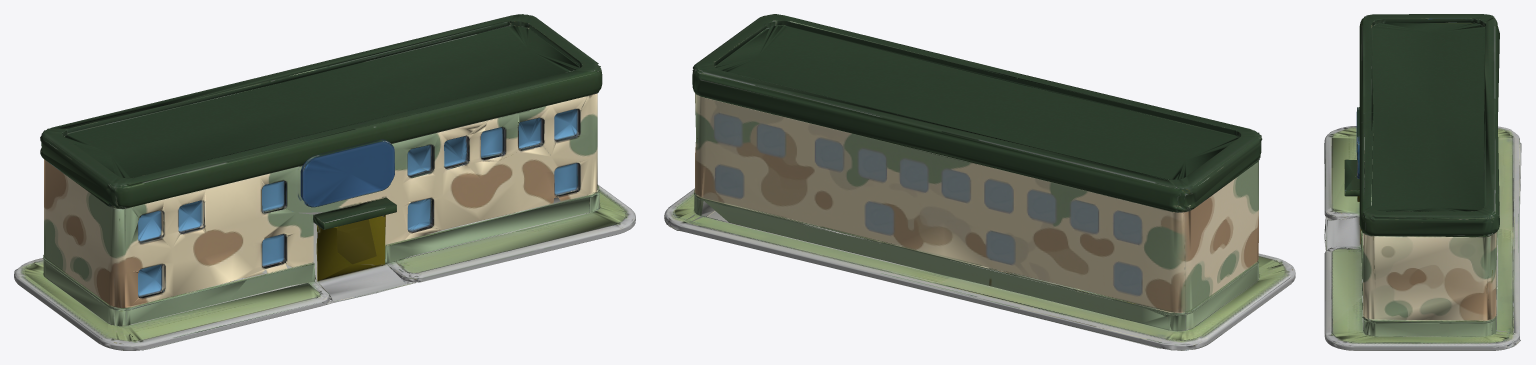
File: barracks-fractured.glb
3 renders of one model, left to right at view 1: azimuth 30°, elevation 25°; view 2: azimuth 150°, elevation 25°; view 3: azimuth 270°, elevation 25°, orthographic. The views are drawn at different scales.
Visible parts, largest first — view 1: chunk_023, chunk_011, chunk_002, chunk_020, chunk_008, chunk_014, chunk_026, chunk_017, chunk_001, chunk_021, chunk_009, chunk_004 (+7 smaller); view 2: chunk_021, chunk_018, chunk_009, chunk_023, chunk_011, chunk_012, chunk_006, chunk_000, chunk_024, chunk_001, chunk_003, chunk_004 (+4 smaller); view 3: chunk_023, chunk_011, chunk_028, chunk_025, chunk_021, chunk_009, chunk_026, chunk_024, chunk_018, chunk_014, chunk_020, chunk_002 (+9 smaller).
Part boxes in pixels (x1=…): chunk_023: x1=314, y1=27, x2=593, y2=196; chunk_011: x1=110, y1=82, x2=357, y2=237; chunk_002: x1=99, y1=235, x2=316, y2=350; chunk_020: x1=299, y1=161, x2=609, y2=281; chunk_008: x1=130, y1=213, x2=328, y2=346; chunk_014: x1=296, y1=184, x2=422, y2=303; chunk_026: x1=423, y1=136, x2=635, y2=280; chunk_017: x1=287, y1=140, x2=420, y2=212; chunk_001: x1=18, y1=202, x2=109, y2=343; chunk_021: x1=279, y1=15, x2=511, y2=104; chunk_009: x1=52, y1=72, x2=284, y2=153; chunk_004: x1=42, y1=135, x2=130, y2=269; chunk_021: x1=700, y1=70, x2=979, y2=187; chunk_018: x1=684, y1=158, x2=941, y2=291; chunk_009: x1=940, y1=126, x2=1185, y2=235; chunk_023: x1=730, y1=15, x2=1020, y2=109; chunk_011: x1=954, y1=74, x2=1249, y2=159; chunk_012: x1=884, y1=144, x2=1016, y2=286; chunk_006: x1=929, y1=211, x2=1164, y2=348; chunk_000: x1=996, y1=236, x2=1216, y2=350; chunk_024: x1=664, y1=137, x2=824, y2=245; chunk_001: x1=1192, y1=227, x2=1291, y2=343; chunk_003: x1=1086, y1=160, x2=1224, y2=276; chunk_004: x1=1186, y1=135, x2=1260, y2=250; chunk_023: x1=1359, y1=113, x2=1483, y2=216; chunk_011: x1=1359, y1=19, x2=1482, y2=136; chunk_028: x1=1375, y1=207, x2=1482, y2=290; chunk_025: x1=1354, y1=272, x2=1509, y2=350; chunk_021: x1=1434, y1=113, x2=1499, y2=223; chunk_009: x1=1434, y1=19, x2=1499, y2=120; chunk_026: x1=1324, y1=253, x2=1376, y2=350; chunk_024: x1=1426, y1=269, x2=1520, y2=350; chunk_018: x1=1496, y1=232, x2=1519, y2=333; chunk_014: x1=1324, y1=159, x2=1363, y2=252; chunk_020: x1=1324, y1=232, x2=1497, y2=329; chunk_002: x1=1324, y1=126, x2=1364, y2=207.
Bounding box in the file's own units: 0.9497 × 0.2534 × 0.3589.
1 material, 1 textured.
